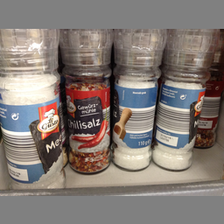spices: (1, 29, 66, 187), (152, 30, 219, 171), (59, 29, 113, 175), (112, 29, 165, 172)
